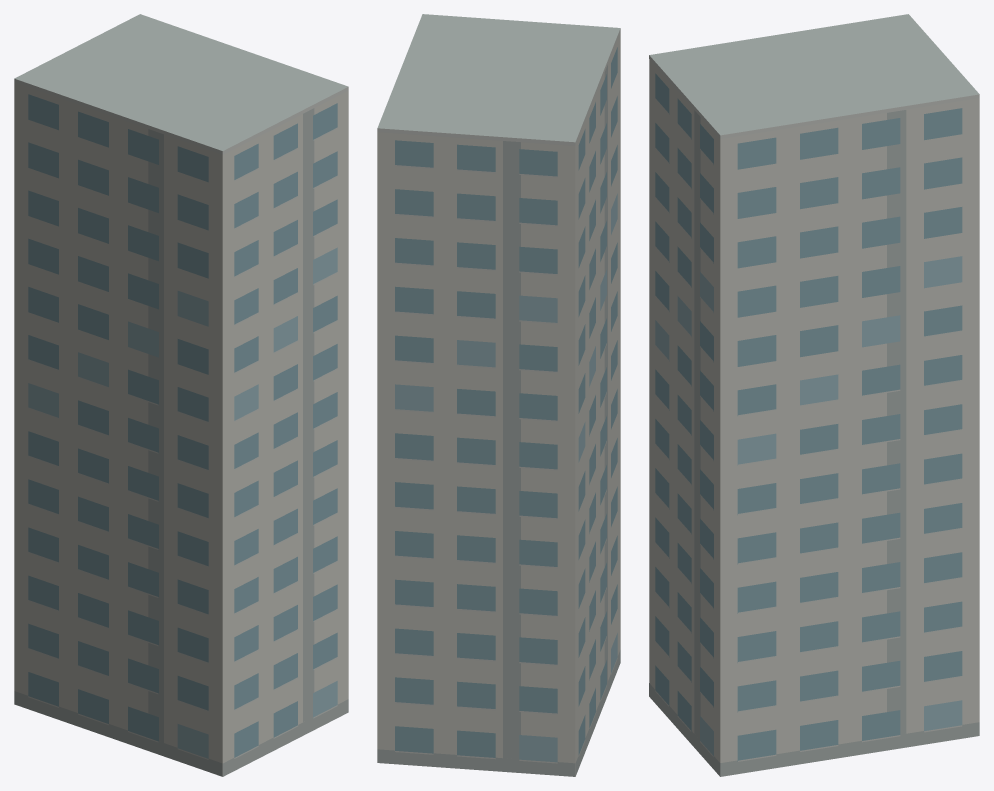
The model's file is residential-c480ece3-cb7e-4cdd-b809-8307f6283b22.glb.
3 renders of one model, left to right at view 1: azimuth 30°, elevation 25°; view 2: azimuth 150°, elevation 25°; view 3: azimuth 270°, elevation 25°, orthographic. The views are drawn at different scales.
Parts seen in each view (by area): view 1: residential-c480ece3-cb7e-4cdd-b809-8307f6283b22.tmp; view 2: residential-c480ece3-cb7e-4cdd-b809-8307f6283b22.tmp; view 3: residential-c480ece3-cb7e-4cdd-b809-8307f6283b22.tmp.
Boxes of the visible parts, <box> form: residential-c480ece3-cb7e-4cdd-b809-8307f6283b22.tmp: <box>14,14,348,776</box>; residential-c480ece3-cb7e-4cdd-b809-8307f6283b22.tmp: <box>377,14,620,776</box>; residential-c480ece3-cb7e-4cdd-b809-8307f6283b22.tmp: <box>649,14,979,776</box>.
Bounding box in the file's own units: 16.65 × 41 × 19.16.
